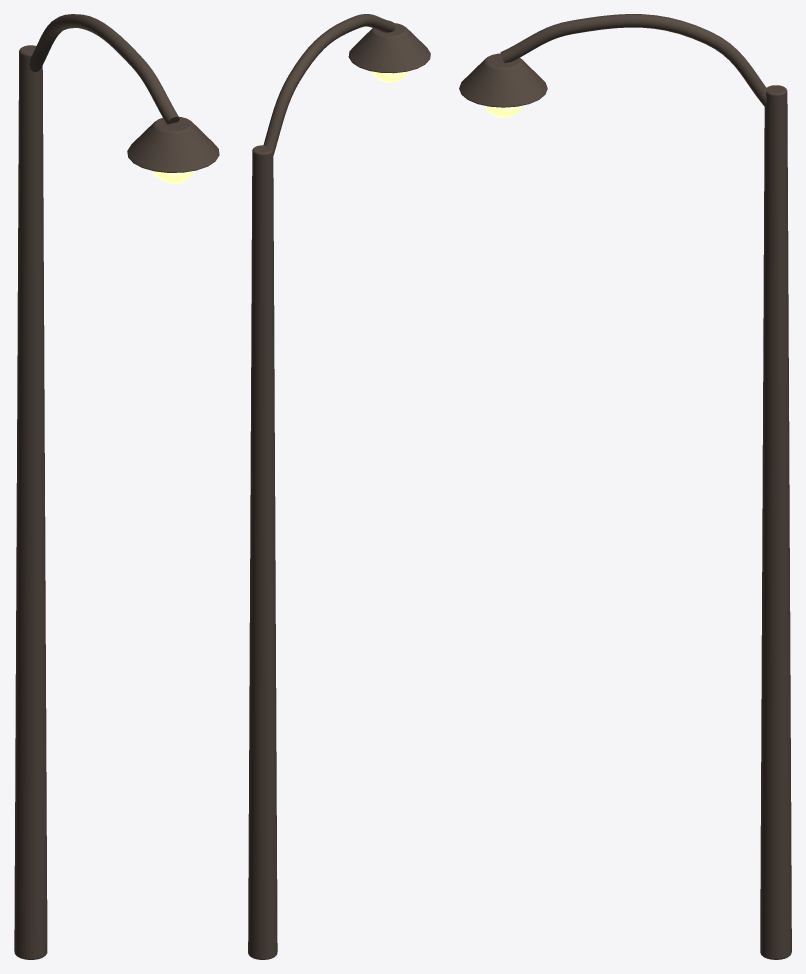
Rendered from platform_lamp.glb.
3 views of the same model, side by side, from view 1: azimuth 30°, elevation 25°; view 2: azimuth 150°, elevation 25°; view 3: azimuth 270°, elevation 25° (orthographic). The views are drawn at different scales.
Parts seen in each view (by area): view 1: lamp_post, lamp_head, lamp_arm; view 2: lamp_post, lamp_head, lamp_arm; view 3: lamp_post, lamp_arm, lamp_head.
Part boxes in pixels (bbox=[...]): lamp_post: bbox=[14, 45, 47, 959]; lamp_head: bbox=[127, 116, 219, 172]; lamp_arm: bbox=[29, 14, 179, 124]; lamp_post: bbox=[248, 145, 277, 959]; lamp_head: bbox=[348, 23, 430, 73]; lamp_arm: bbox=[263, 14, 395, 155]; lamp_post: bbox=[760, 85, 791, 959]; lamp_arm: bbox=[500, 14, 767, 106]; lamp_head: bbox=[459, 53, 547, 107].
Bounding box in the file's own units: 0.3907 × 4.56 × 1.47.
